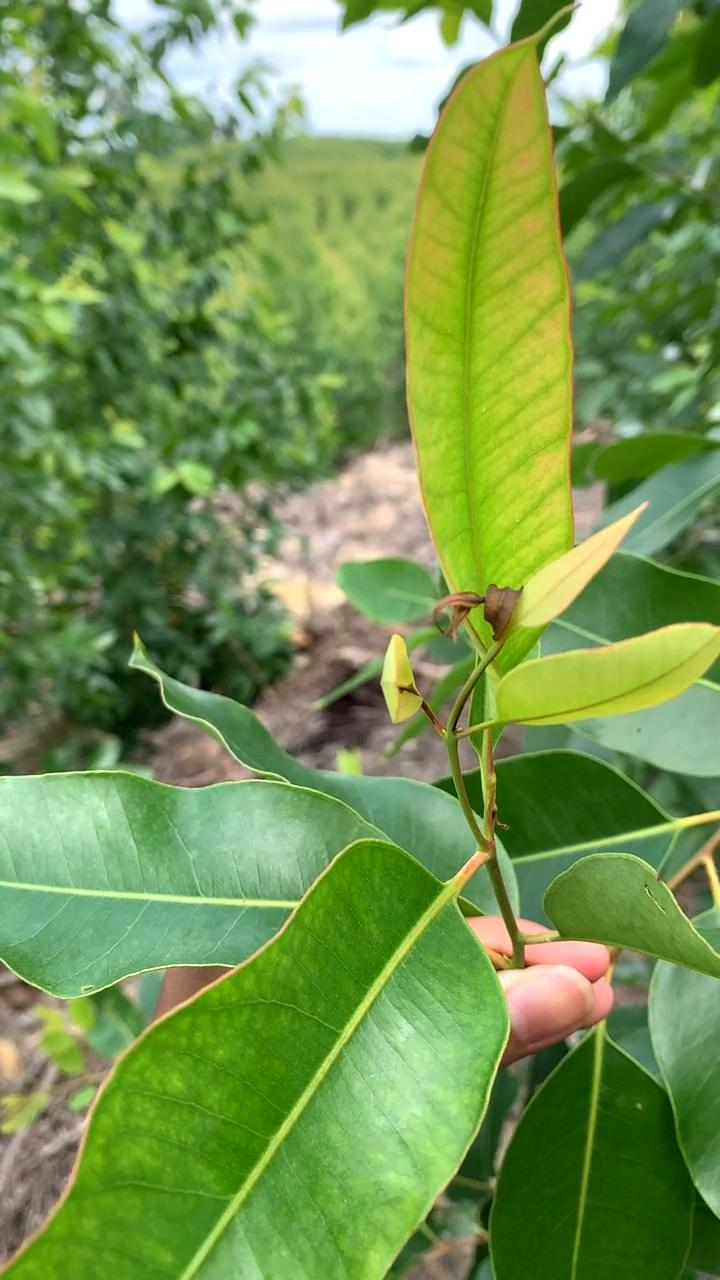Helopeltis-Withered Sprout: (421, 566, 538, 679)
